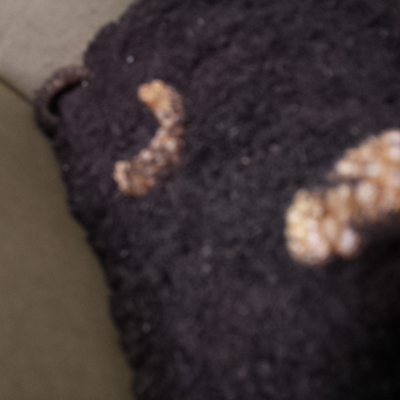eggs: (276, 124, 400, 283), (99, 72, 201, 203)
